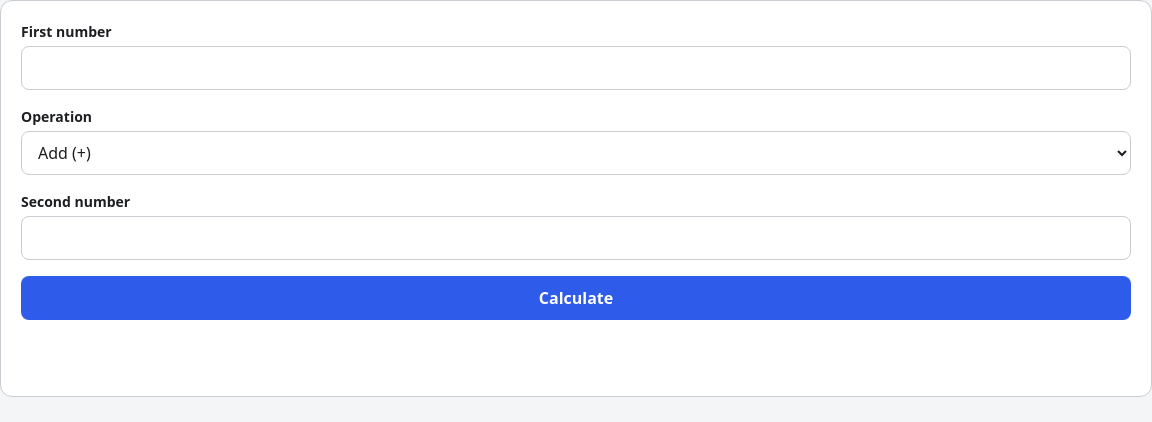
CalculatorForm › sends parsed operands to the API and shows the result
Type "10" into the field labelled "First number" at x=576, y=68, box [21, 46, 1131, 90]
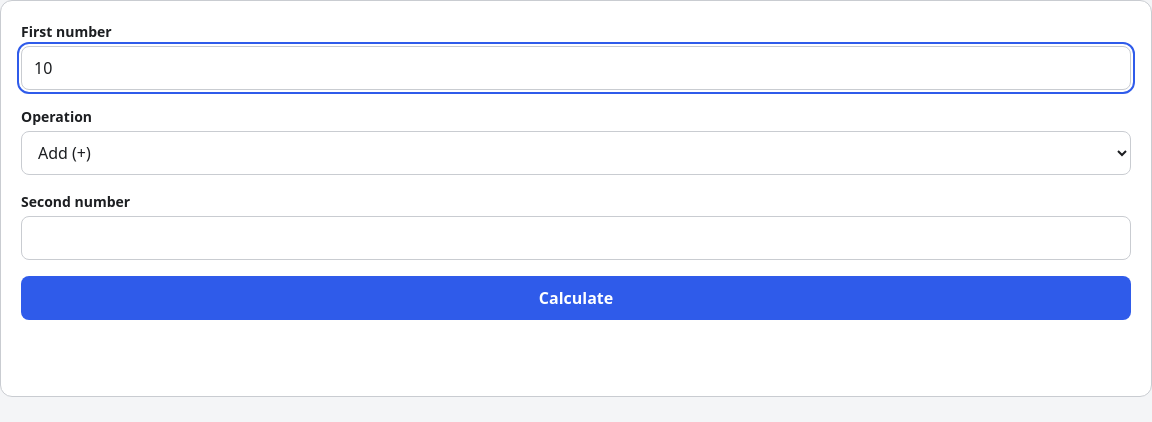
Select "Divide (÷)" in the dropdown labelled "Operation" at x=576, y=153, box [21, 131, 1131, 175]
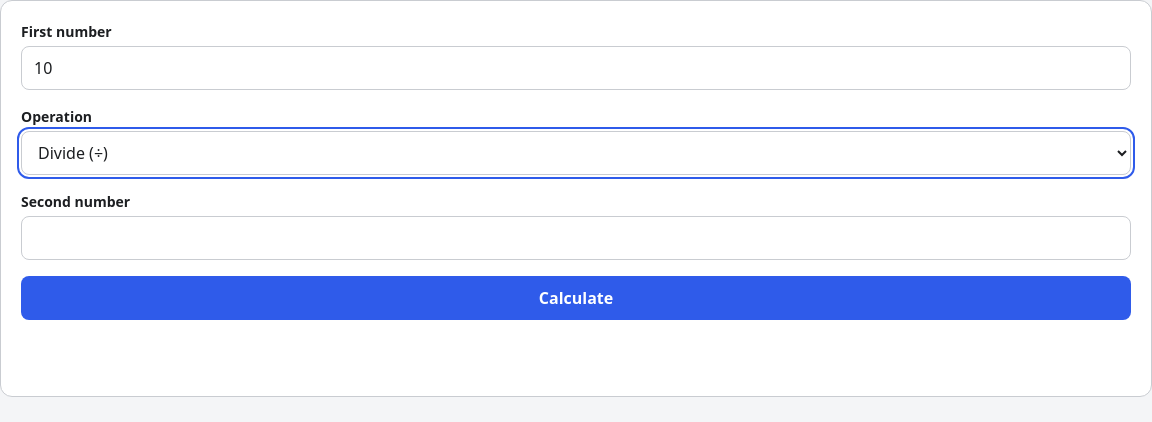
Type "4" into the field labelled "Second number" at x=576, y=238, box [21, 216, 1131, 260]
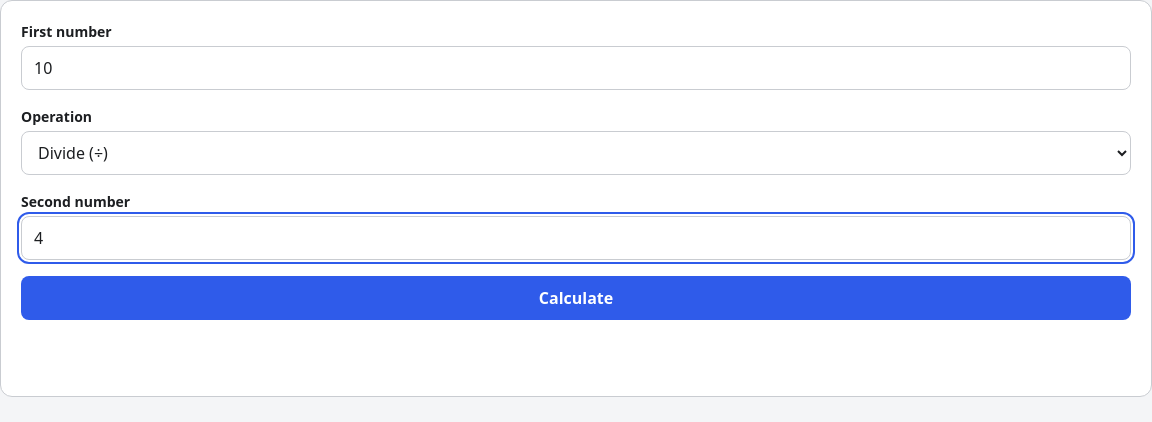
Click the button "Calculate" at x=576, y=298, box [21, 276, 1131, 320]
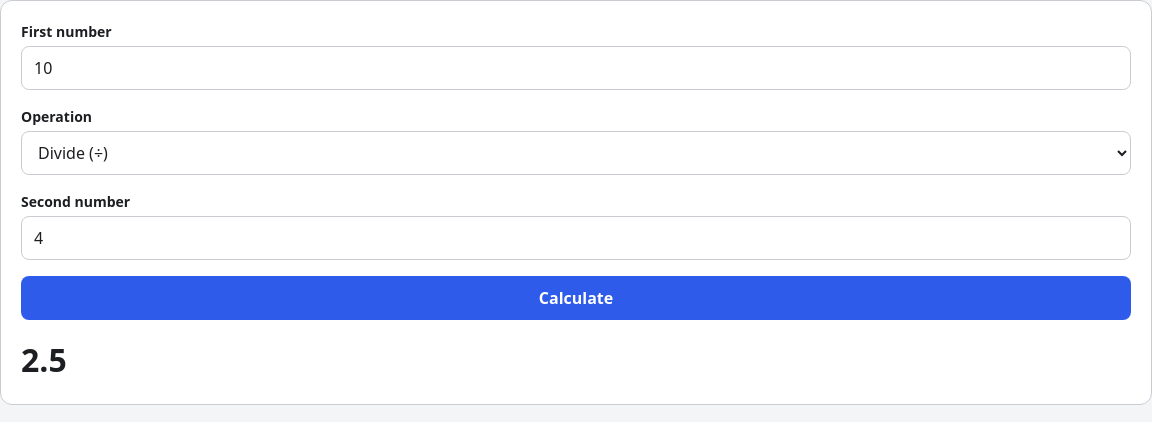
expect the text "2.5" is shown: met, box [21, 338, 67, 381]
